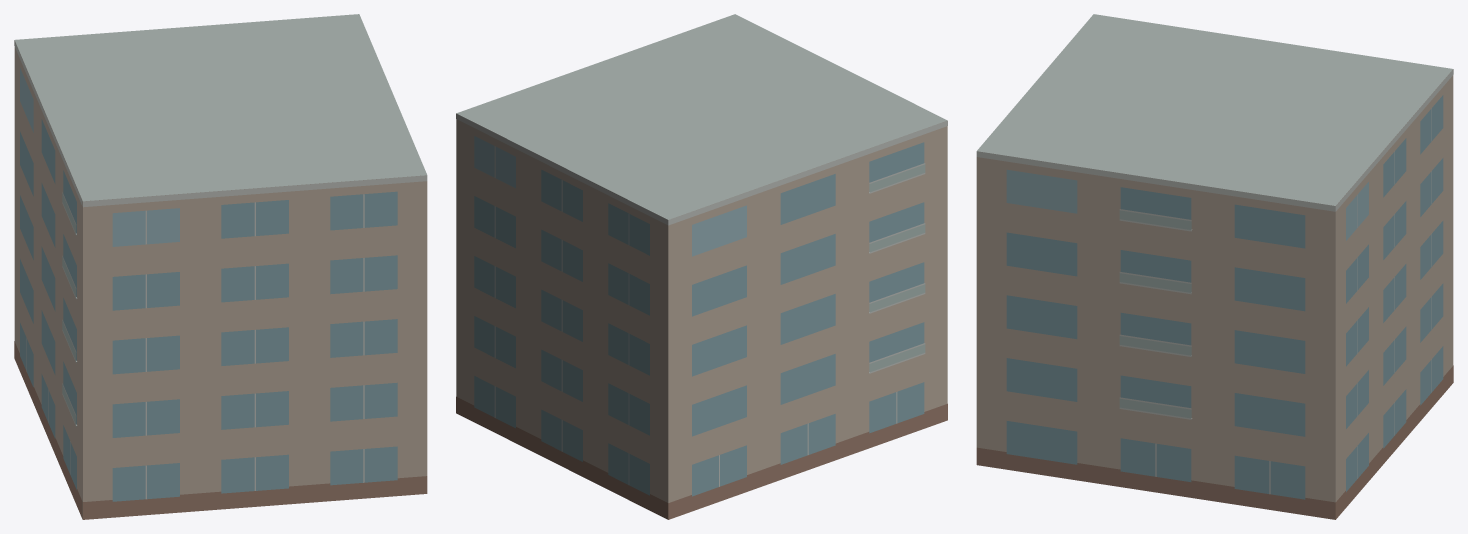
File: survey-upis-32888493.glb
3 views of the same model, side by side, from view 1: azimuth 30°, elevation 25°; view 2: azimuth 150°, elevation 25°; view 3: azimuth 270°, elevation 25° (orthographic). The views are drawn at different scales.
Visible parts, largest first — view 1: survey-upis-32888493.tmp; view 2: survey-upis-32888493.tmp; view 3: survey-upis-32888493.tmp.
Boxes of the visible parts, x1,y1,x2,y2 form: survey-upis-32888493.tmp: (14, 14, 427, 519); survey-upis-32888493.tmp: (456, 14, 947, 519); survey-upis-32888493.tmp: (976, 14, 1453, 519).
Bounding box in the file's own units: 17.33 × 13.2 × 18.18.
